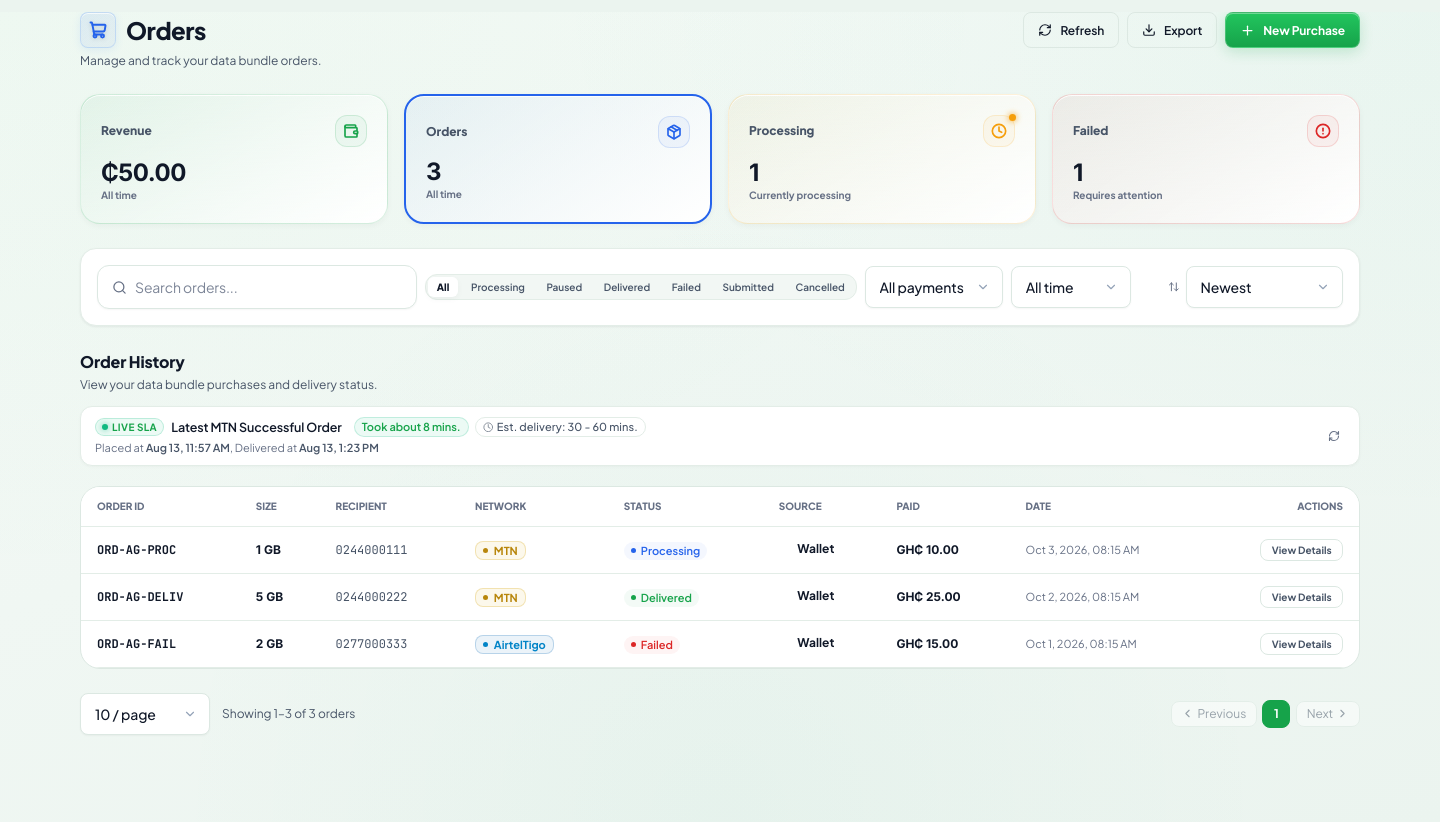
Scenario: Customer & Agent Portal Filter & Sorting Suite › Agent OrdersPage Filters & Sorting › renders all status tabs and allows filtering by Delivered and Failed statuses
expect the button "All" is shown: met, box [428,277,458,297]
expect the button "Processing" is shown: met, box [462,277,534,297]
Filter by Delivered
What coordinates should you click on to do the following:
click the button "Delivered"
I would click on:
 (627, 287)
Its box is [595,277,659,297].
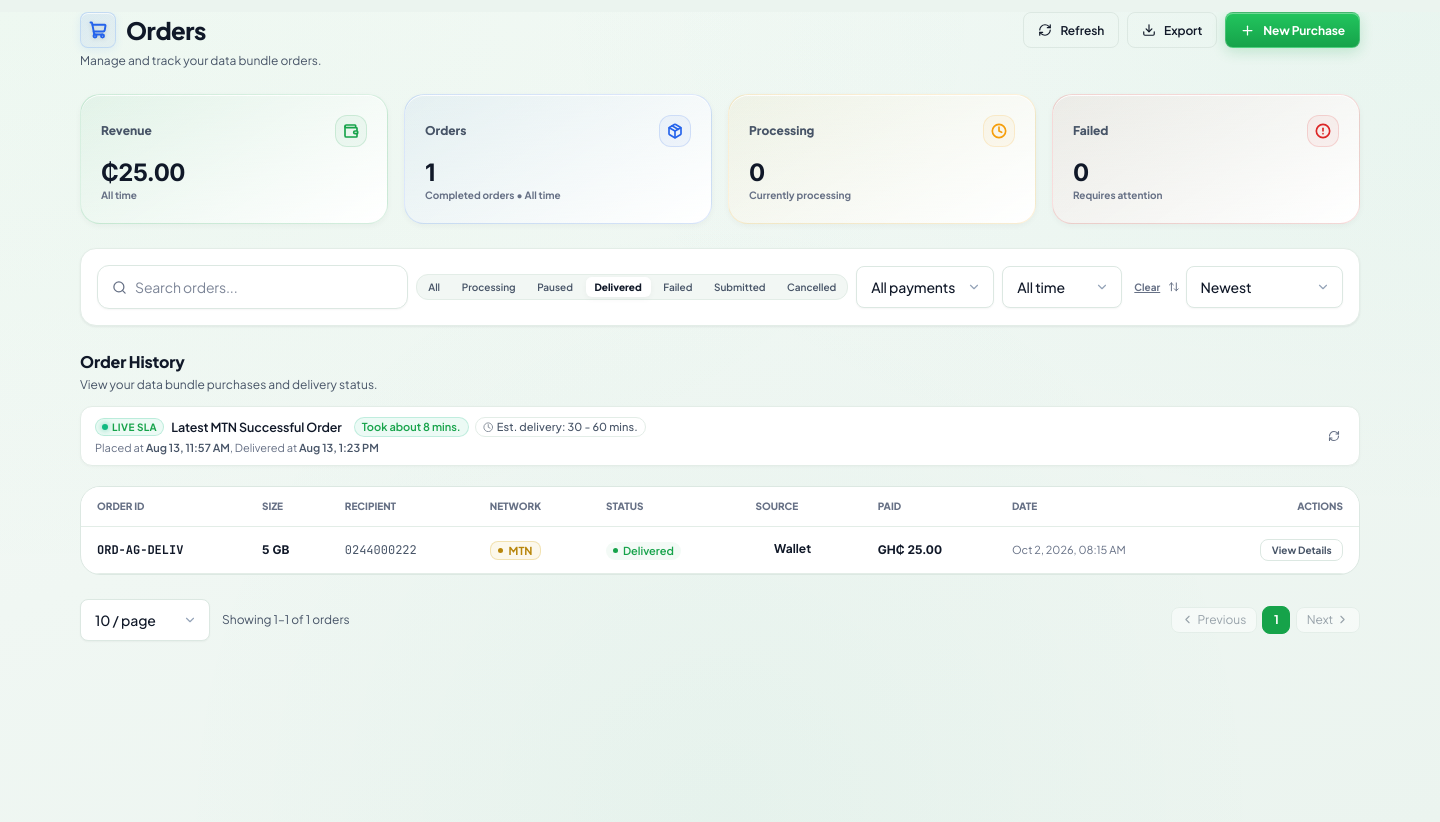
expect the text "ORD-AG-PROC" is gone: met
expect the text "ORD-AG-FAIL" is gone: met
expect the text "₵25.00" is shown: met, box [101,158,185,187]
Filter by Failed
What coordinates should you click on to do the following:
click the button "Failed"
I would click on:
 (678, 287)
Its box is [654,277,701,297].
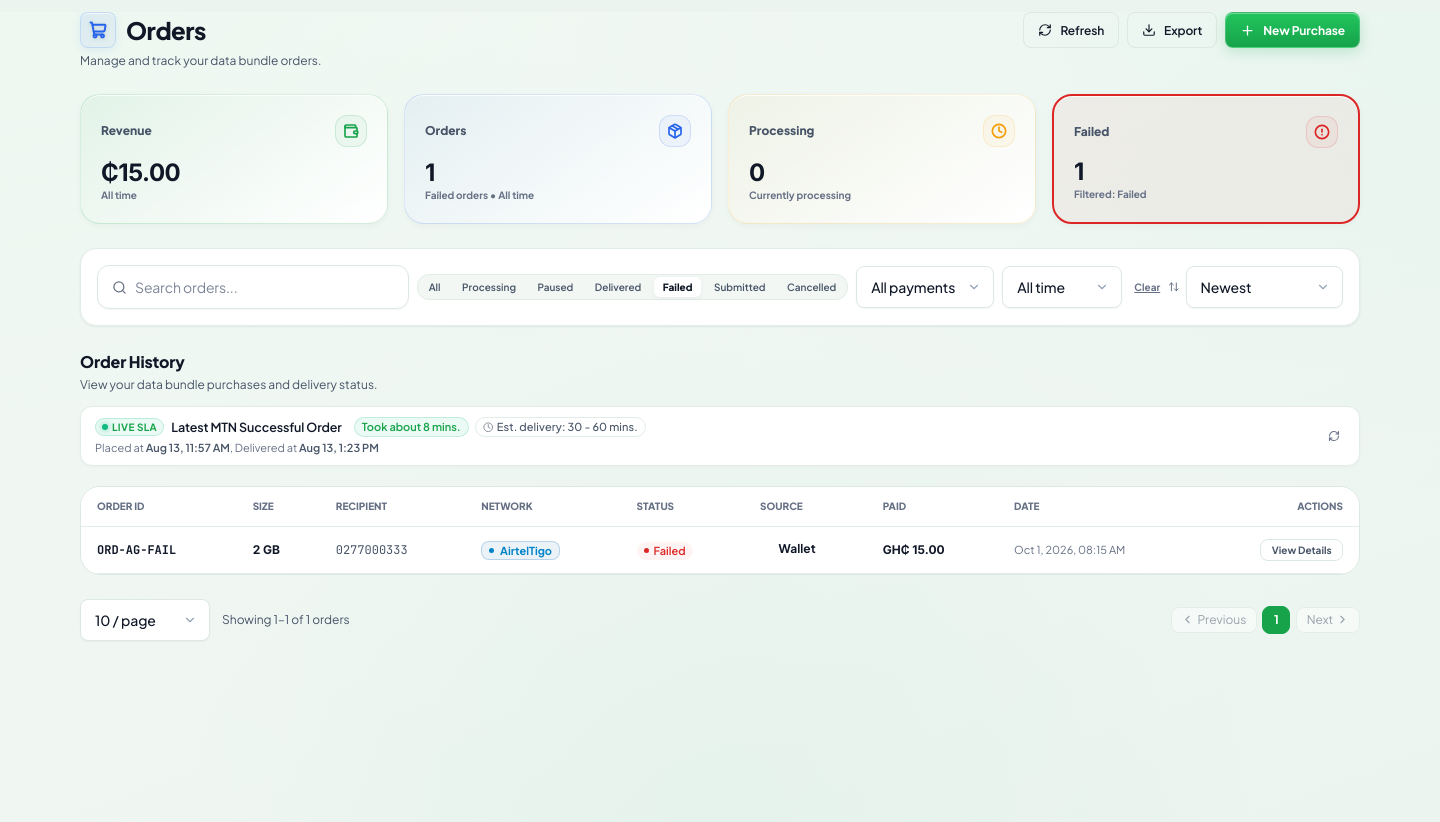
expect the text "ORD-AG-FAIL" is shown: met, box [81,526,237,574]
expect the text "ORD-AG-DELIV" is gone: met
expect the text "₵15.00" is shown: met, box [101,158,180,187]
Clicking Orders card resets status filter to ALL
What coordinates should you click on to do the following:
click the element titled "Click to view all orders"
I would click on:
 (558, 159)
Its box is [404,94,712,224].
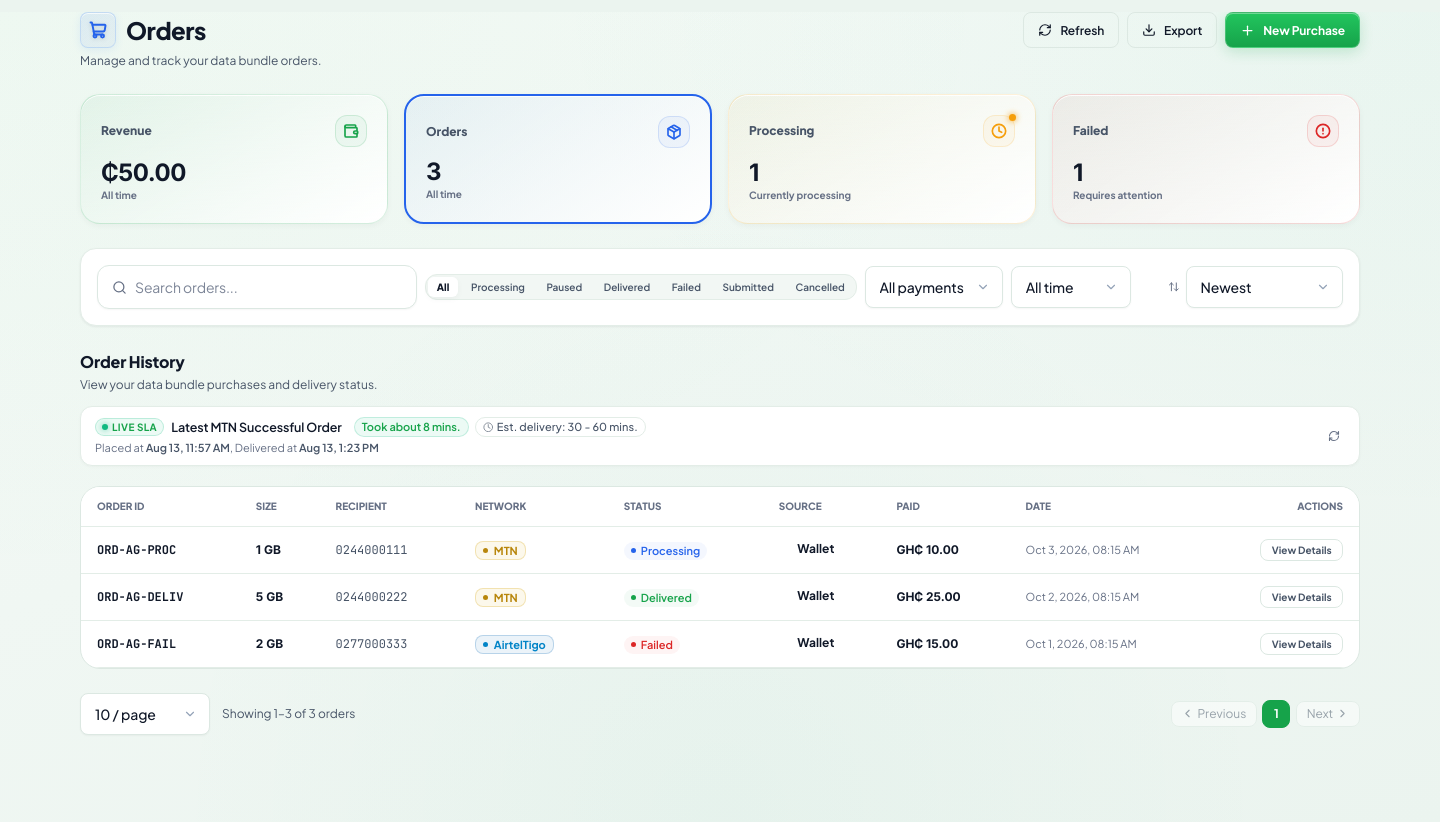
expect the text "ORD-AG-FAIL" is shown: met, box [81,620,240,668]
expect the text "ORD-AG-PROC" is shown: met, box [81,526,240,574]
expect the text "ORD-AG-DELIV" is shown: met, box [81,574,240,620]
